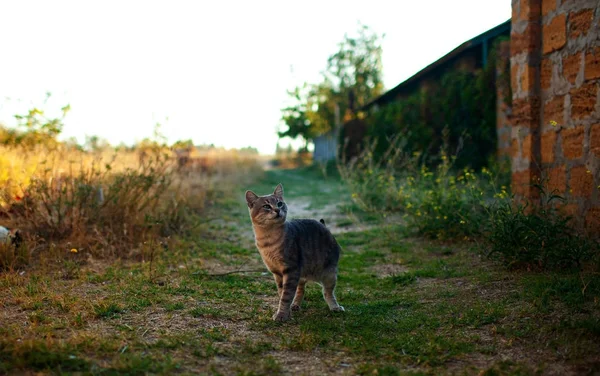cat: (243, 187, 355, 330)
